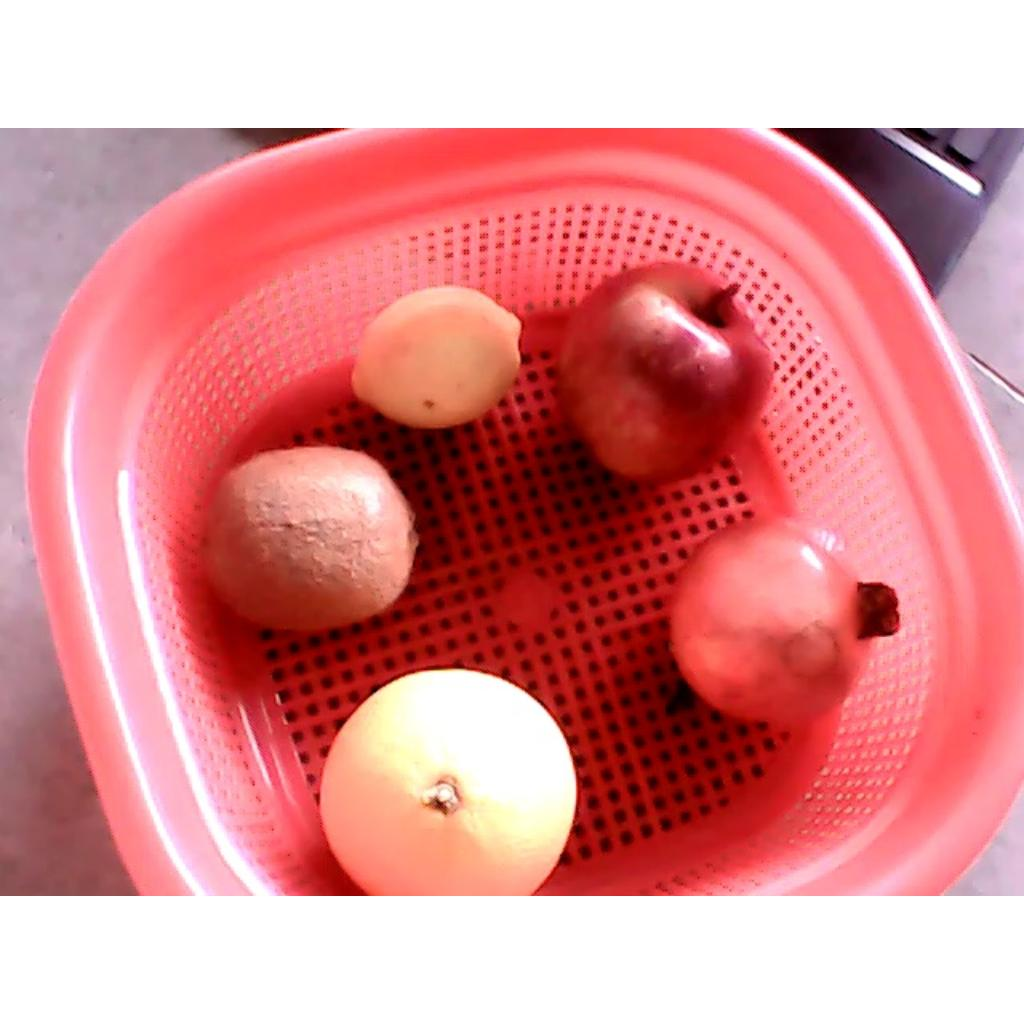apple: (559, 262, 775, 482)
kiwi: (200, 444, 419, 629)
lemon: (351, 287, 522, 427)
orange: (318, 669, 577, 894)
pomegranate: (670, 517, 902, 725)
